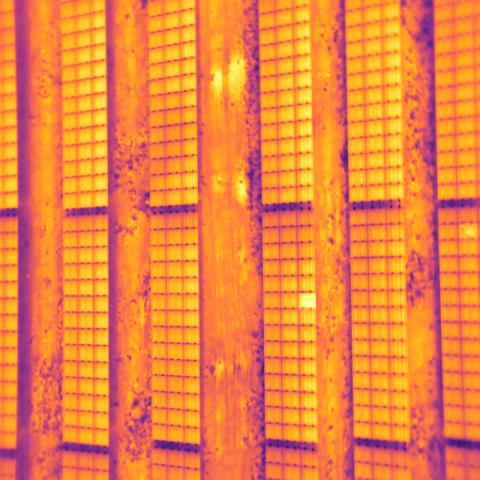fault: (460, 223, 478, 241), (298, 293, 316, 310)
